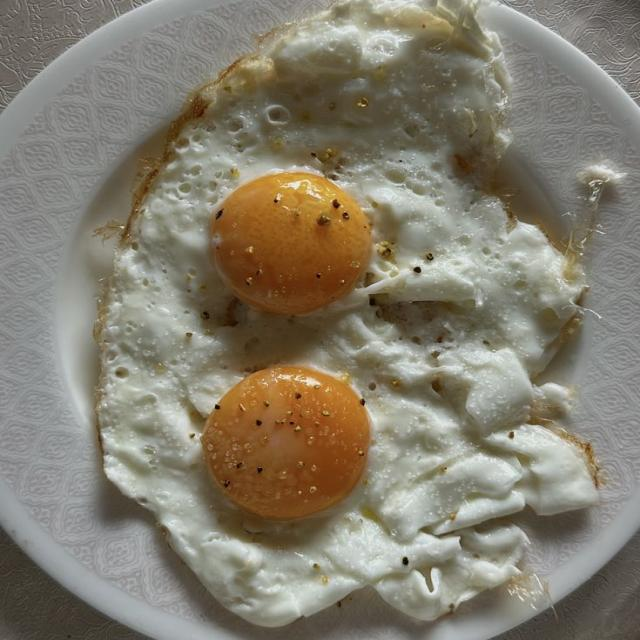fryed egg: (97, 0, 596, 626)
